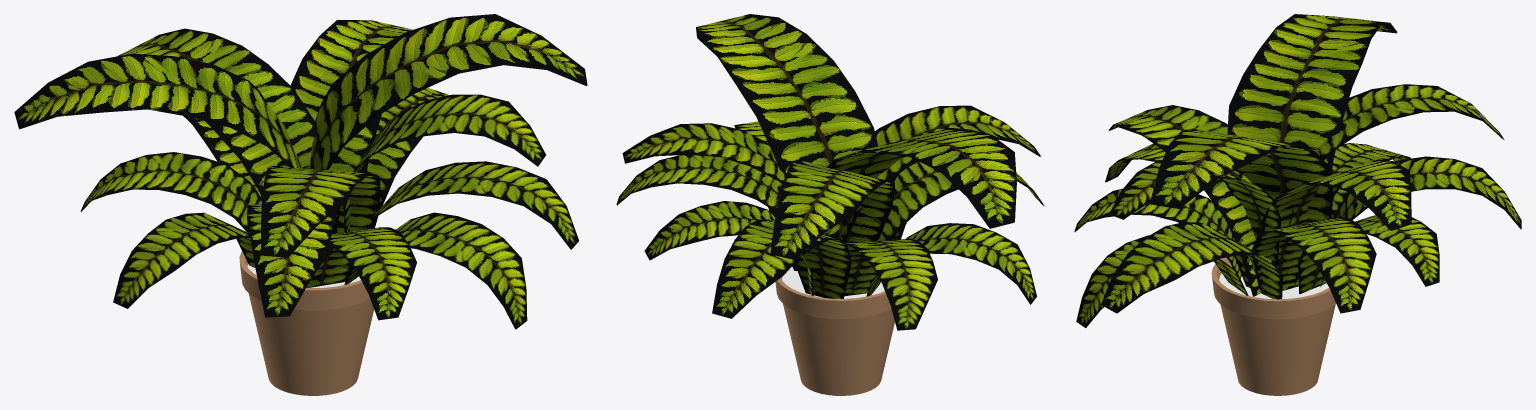
File: sh_scopia_boston_fern.glb
3 renders of one model, left to right at view 1: azimuth 30°, elevation 25°; view 2: azimuth 150°, elevation 25°; view 3: azimuth 270°, elevation 25°, orthographic. The views are drawn at different scales.
Bounding box in the file's own units: 0.6496 × 0.4446 × 0.6096.
3 materials, 1 textured.
